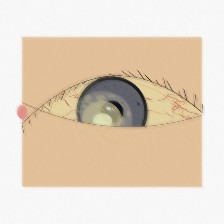corneal_ulcer: (70, 93, 134, 144)
